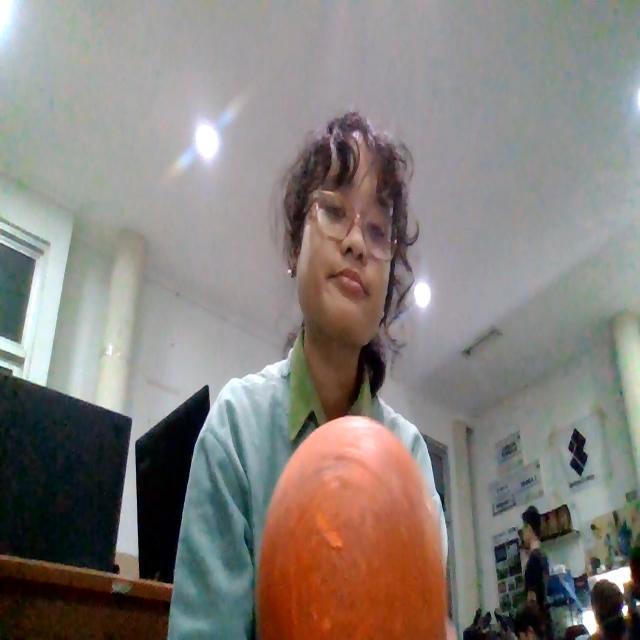ball: (254, 414, 448, 638)
